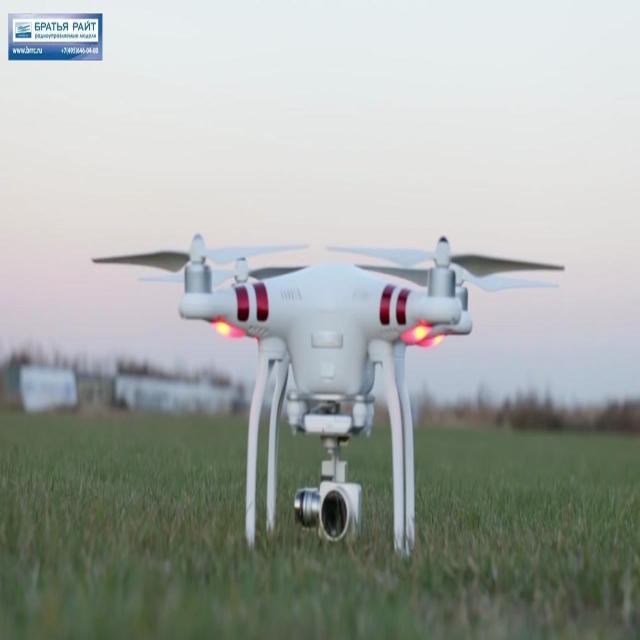Drone_FW: (91, 231, 565, 558)
